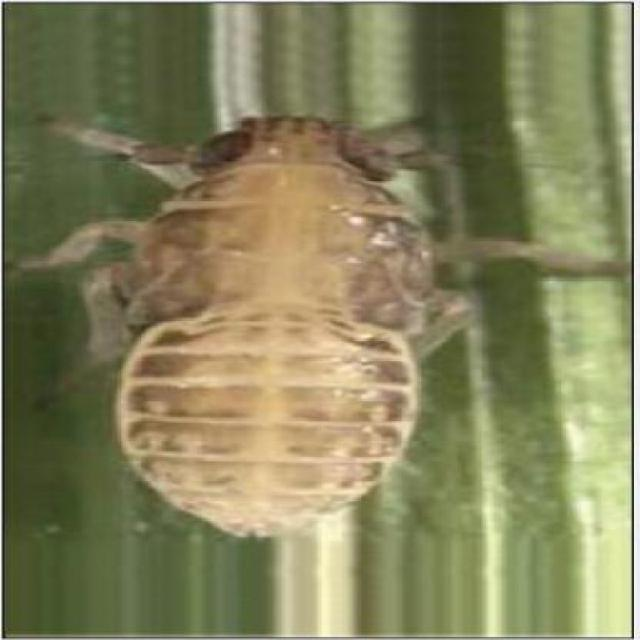brown-planthopper: (112, 108, 445, 540)
